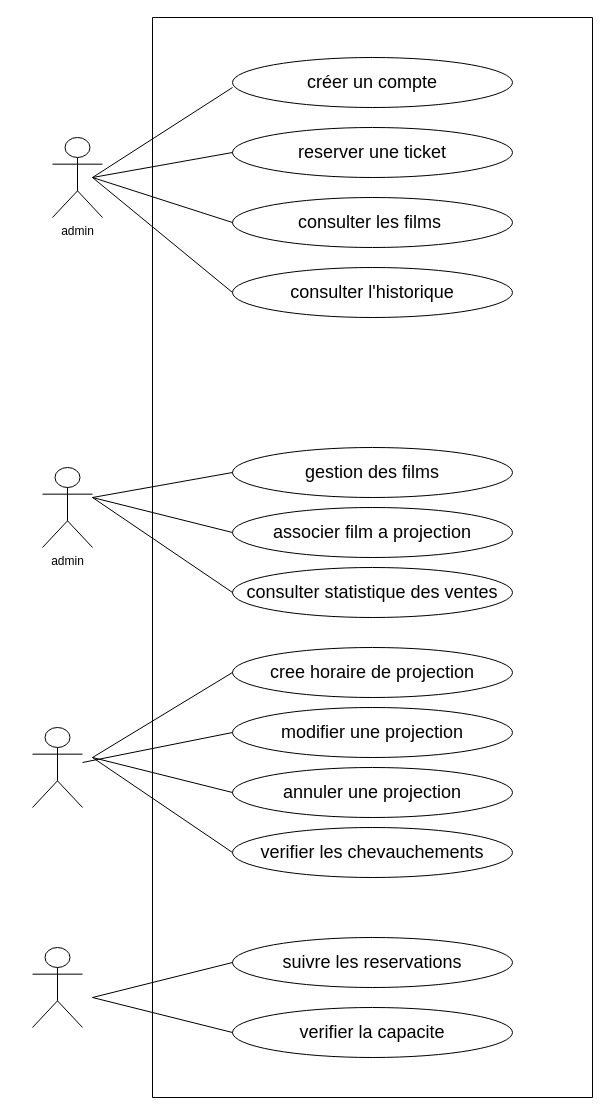
Image size: 610x1115. Some labels were removed from this diagram. The shapes that lost their labels are listed below. From the top down, each one's box as (x1, y1, x2, y2) in pixels, then its label:
(32, 726, 82, 808): responsable des projections
(32, 946, 82, 1028): responsable des tickets
